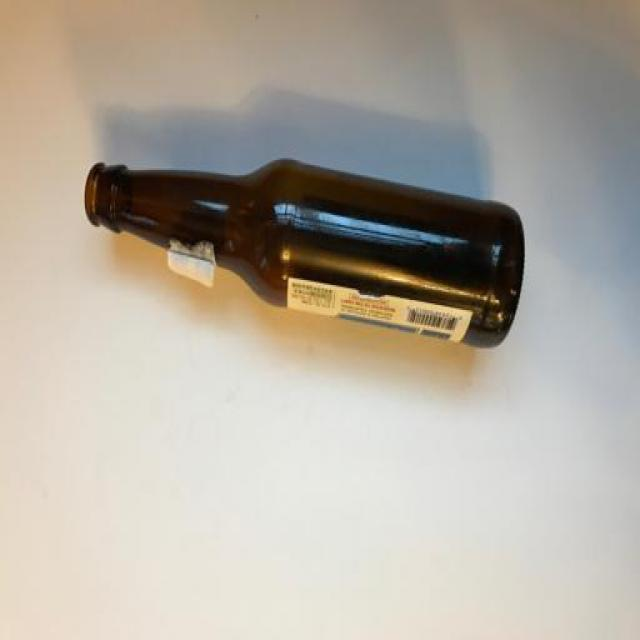glass: (54, 131, 541, 373)
